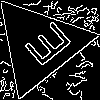E: (14, 20, 73, 75)
